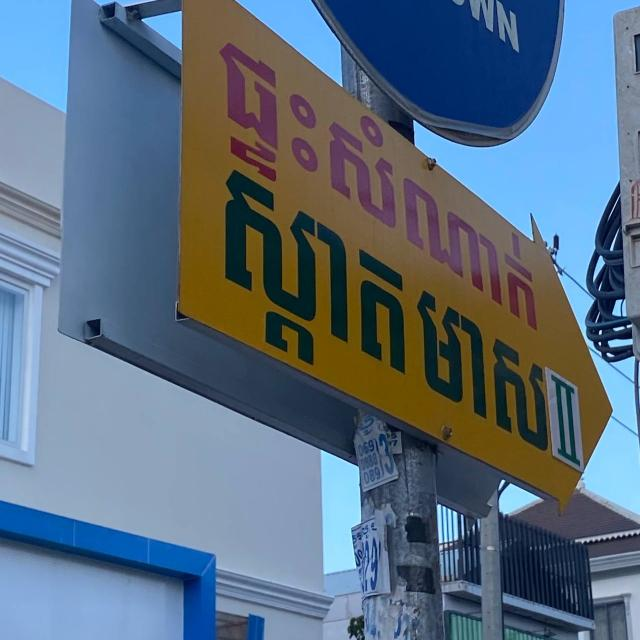87: (217, 158, 590, 490)
Yolov11kh: (208, 6, 540, 336)
